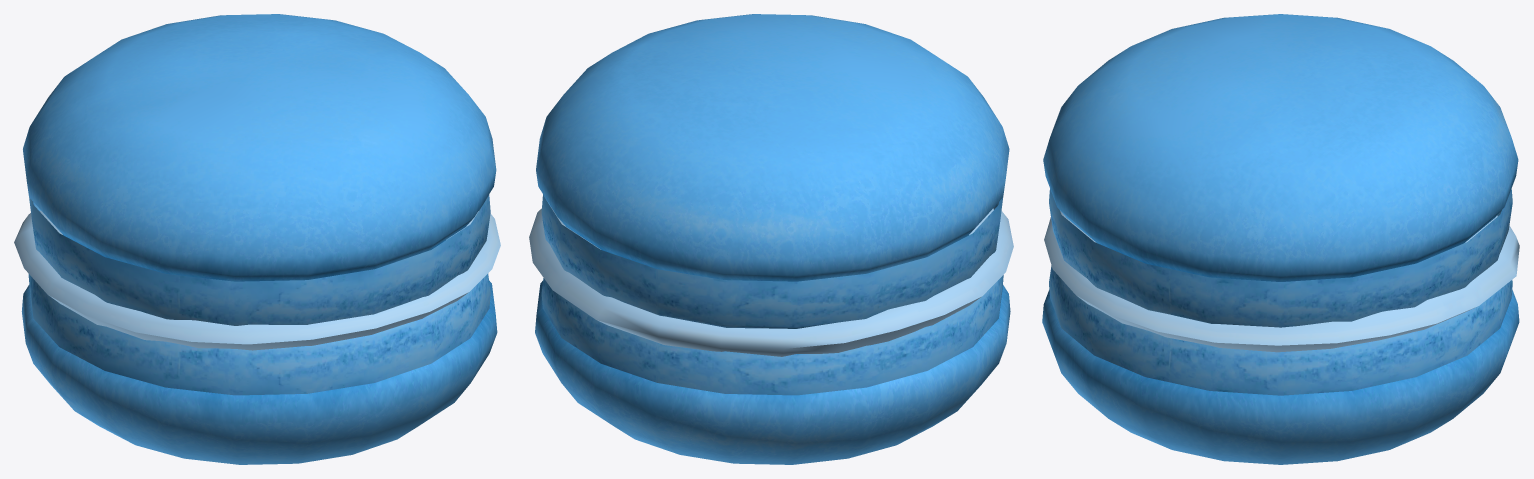
Rendered from 0-macaron_blue.fbx.
3 views of the same model, side by side, from view 1: azimuth 30°, elevation 25°; view 2: azimuth 150°, elevation 25°; view 3: azimuth 270°, elevation 25° (orthographic).
Parts seen in each view (by area): view 1: 0-macaron_blue; view 2: 0-macaron_blue; view 3: 0-macaron_blue.
Part boxes in pixels (x1,y1,x2,y2): 0-macaron_blue: (14,14,500,464); 0-macaron_blue: (529,14,1013,464); 0-macaron_blue: (1042,14,1519,464).
Size of the model in its own units: 99.88 by 79.26 by 97.82.
